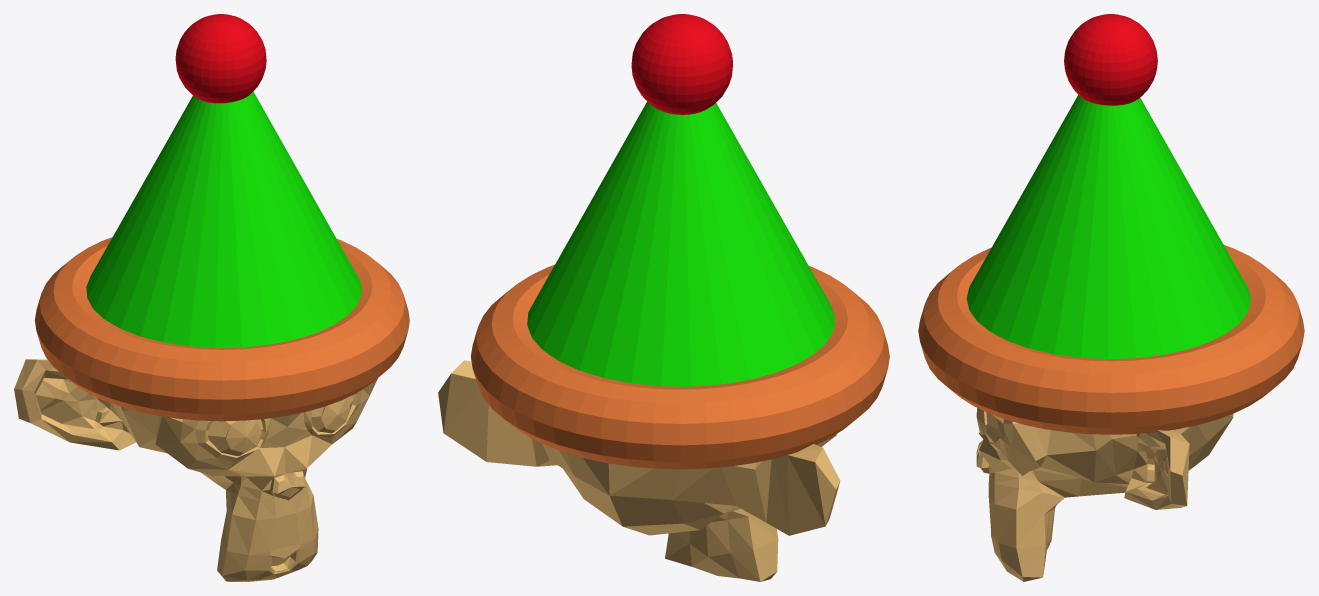
The model's file is Monkey.dae.
3 renders of one model, left to right at view 1: azimuth 30°, elevation 25°; view 2: azimuth 150°, elevation 25°; view 3: azimuth 270°, elevation 25°, orthographic. The views are drawn at different scales.
Parts seen in each view (by area): view 1: Cone, Torus, Suzanne, Sphere; view 2: Cone, Torus, Suzanne, Sphere; view 3: Cone, Torus, Suzanne, Sphere.
Part boxes in pixels (bbox=[...]): Cone: bbox=[86, 91, 361, 347]; Torus: bbox=[34, 237, 409, 421]; Suzanne: bbox=[14, 359, 377, 581]; Sphere: bbox=[175, 14, 266, 103]; Cone: bbox=[527, 101, 834, 386]; Torus: bbox=[471, 264, 889, 469]; Suzanne: bbox=[438, 360, 840, 581]; Sphere: bbox=[631, 14, 732, 114]; Cone: bbox=[966, 95, 1250, 358]; Torus: bbox=[918, 245, 1304, 434]; Suzanne: bbox=[976, 408, 1233, 581]; Sphere: bbox=[1064, 14, 1157, 105].
Size of the model in its own units: 38.94 by 35.51 by 55.23.
